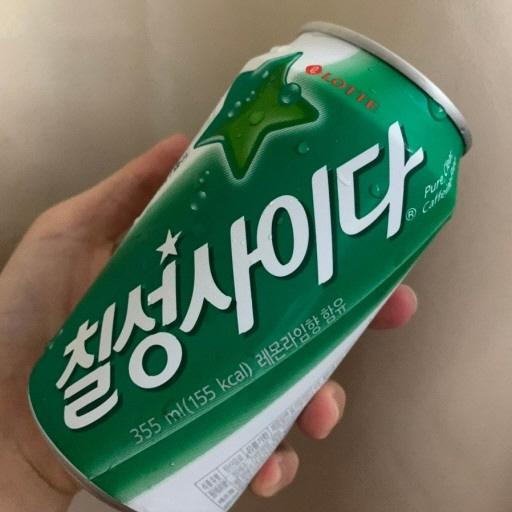chilsungcider: (19, 18, 475, 511)
